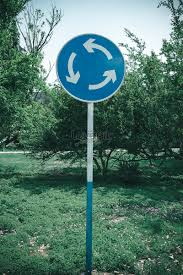roundabout: (49, 24, 139, 109)
